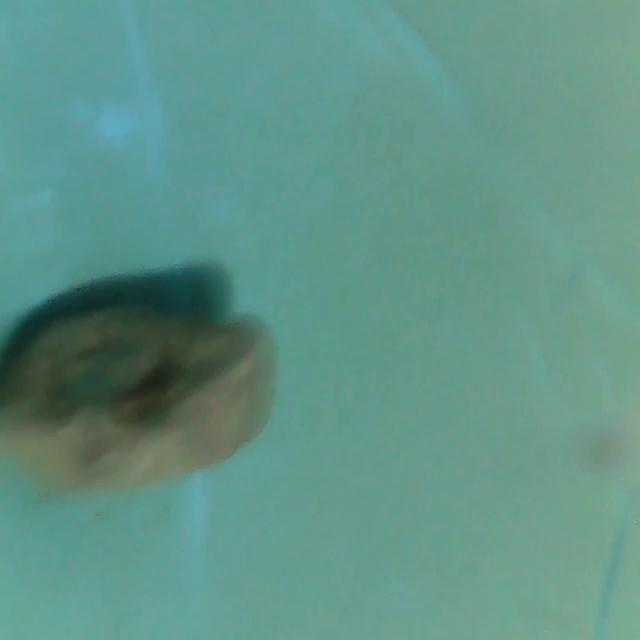rock: (0, 291, 283, 498)
